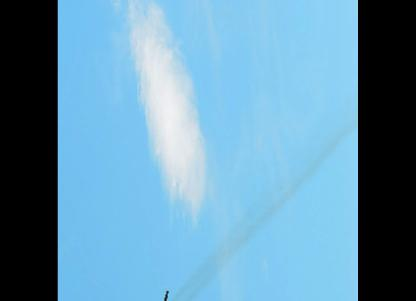AV8B: (147, 288, 172, 300)
